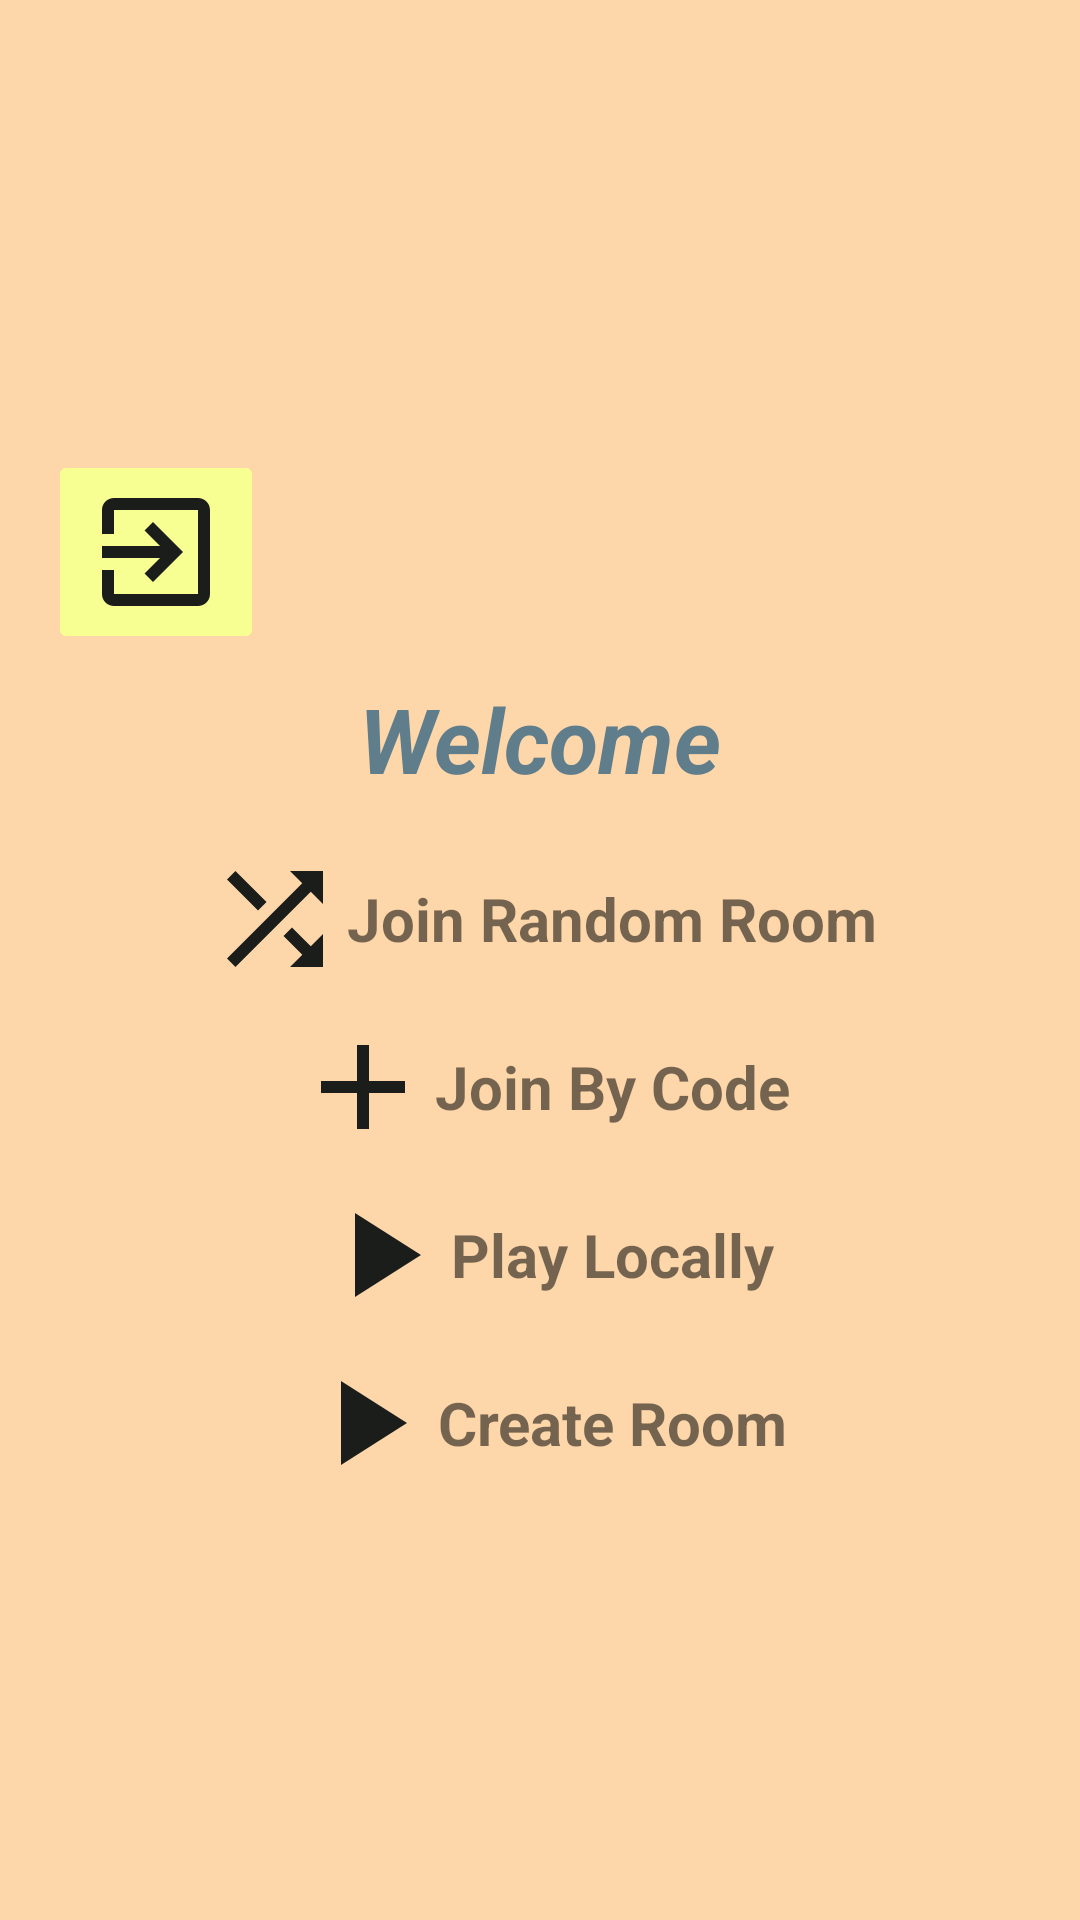

Named icons in this screenshot (1080px x 1920px) and their centers, [x,y]:
Log Out: [156,552]
